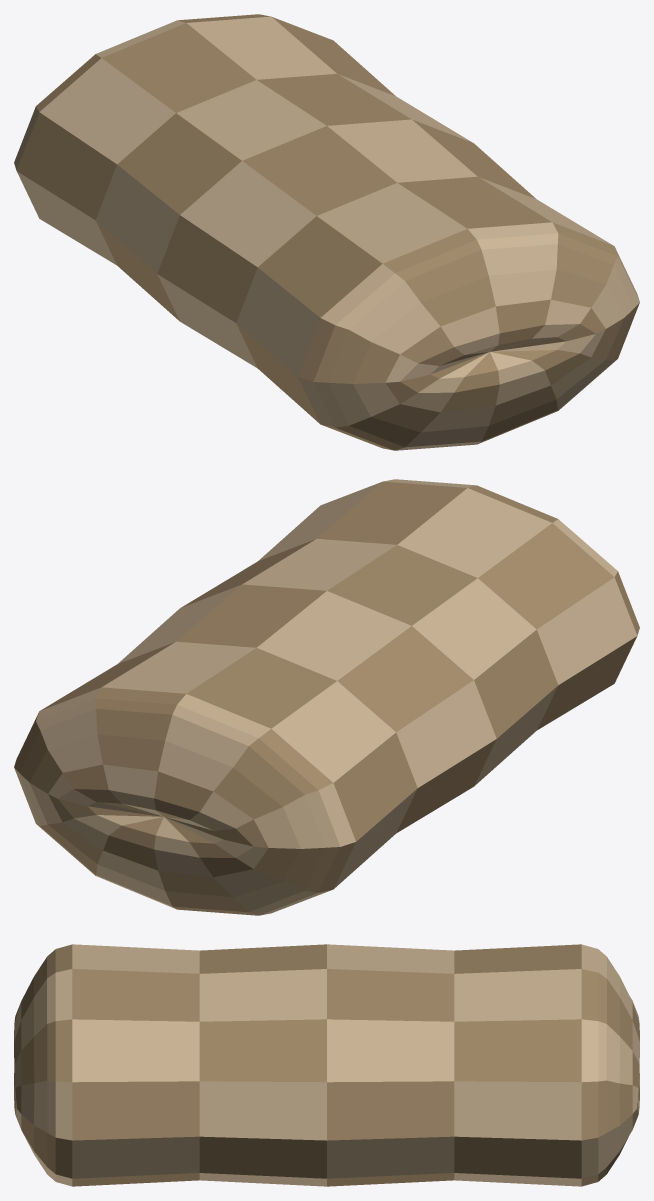
Rendered from Slaapzak.fbx.
3 renders of one model, top to bottom at view 1: azimuth 30°, elevation 25°; view 2: azimuth 150°, elevation 25°; view 3: azimuth 270°, elevation 25°, orthographic. The views are drawn at different scales.
Visible parts, largest first — view 1: Cylinder.001; view 2: Cylinder.001; view 3: Cylinder.001.
Boxes of the visible parts, x1=… form: Cylinder.001: x1=14, y1=14, x2=639, y2=450; Cylinder.001: x1=14, y1=479, x2=639, y2=915; Cylinder.001: x1=14, y1=944, x2=639, y2=1186.
Size of the model in its own units: 20 by 12 by 35.25.
